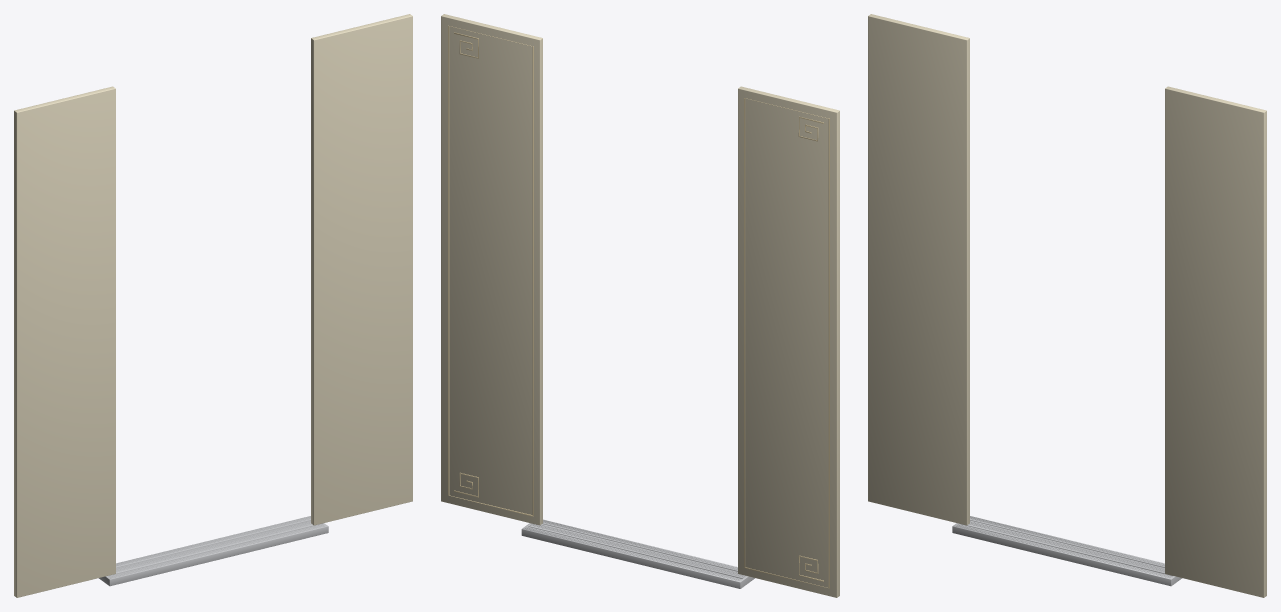
The model's file is cabin_door_TM026.glb.
3 renders of one model, left to right at view 1: azimuth 30°, elevation 25°; view 2: azimuth 150°, elevation 25°; view 3: azimuth 330°, elevation 25°, orthographic.
Visible parts, largest first — view 1: Car_Door_L, Car_Door_R, Door_Sill; view 2: Car_Door_L, Car_Door_R, Door_Sill; view 3: Car_Door_L, Car_Door_R, Door_Sill.
Boxes of the visible parts, x1,y1,x2,y2 form: Car_Door_L: [14, 86, 115, 597]; Car_Door_R: [311, 14, 412, 525]; Door_Sill: [98, 516, 328, 586]; Car_Door_L: [738, 86, 839, 597]; Car_Door_R: [441, 14, 542, 525]; Door_Sill: [521, 519, 754, 588]; Car_Door_L: [868, 14, 969, 525]; Car_Door_R: [1165, 86, 1266, 597]; Door_Sill: [952, 516, 1182, 586].
Size of the model in its own units: 1.81 by 2.15 by 0.12.
